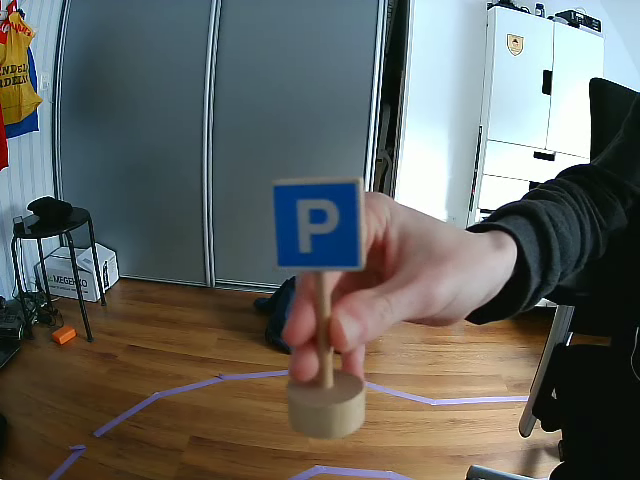parkeerbord: (272, 176, 364, 270)
